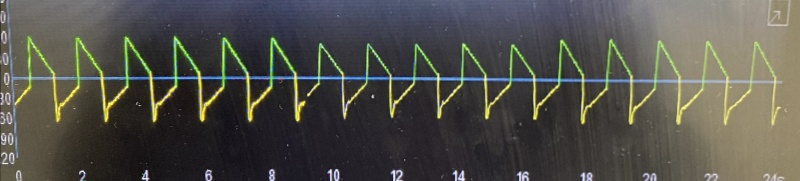peepi: (10, 31, 772, 126)
